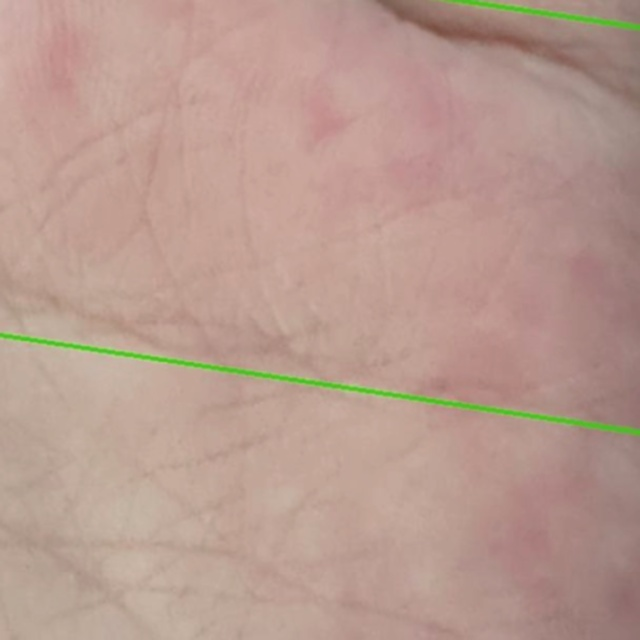Contact Dermatitis: (0, 0, 639, 434)
